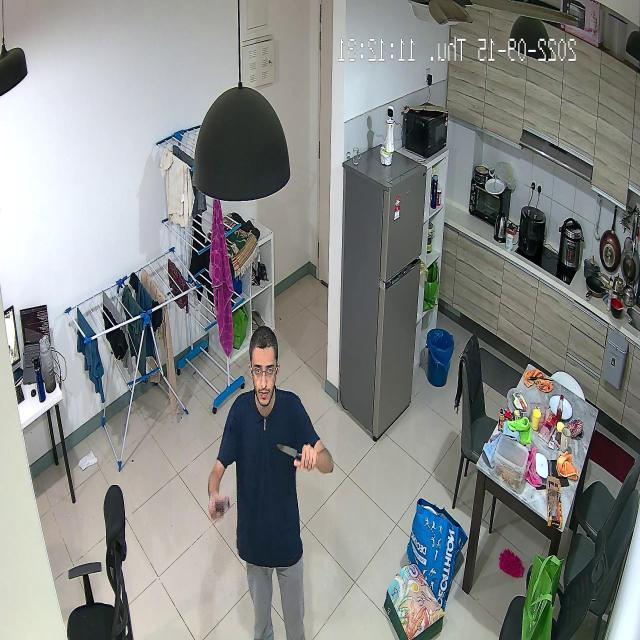Knife: (270, 435, 323, 481)
